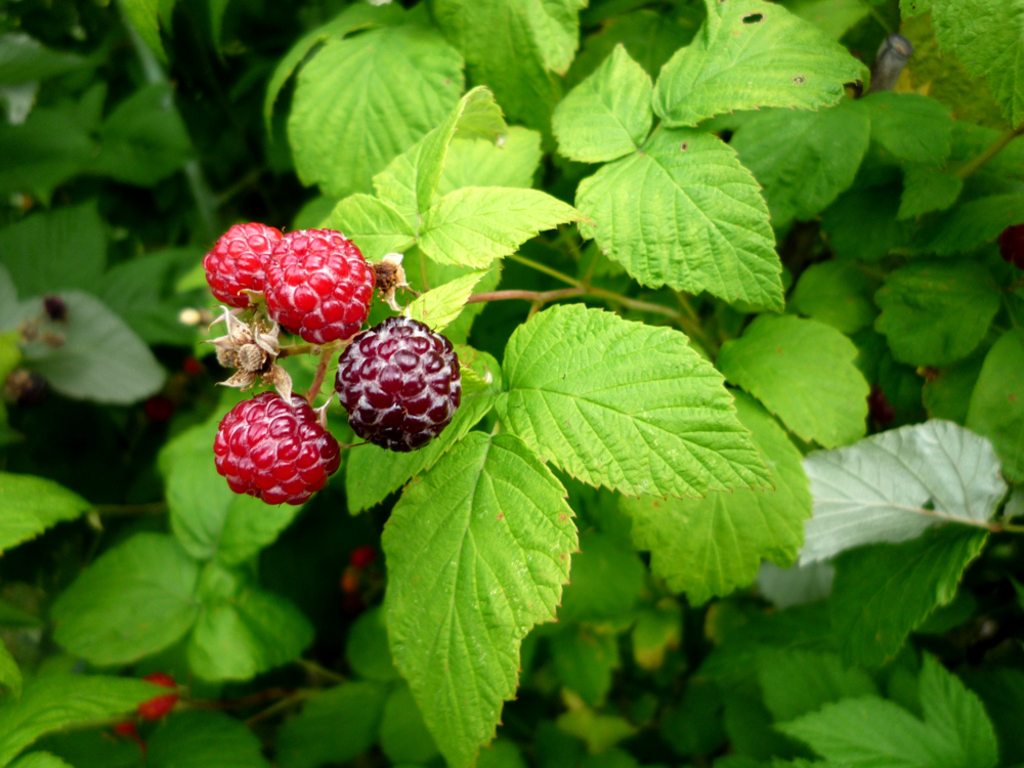person: (2, 286, 171, 502)
